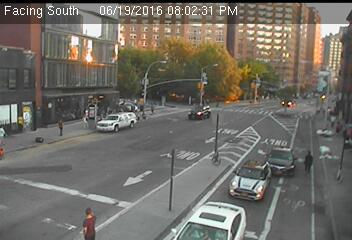neg: (238, 156, 263, 190), (265, 157, 288, 188), (192, 139, 208, 161), (112, 122, 125, 139), (208, 144, 221, 161), (320, 121, 330, 134)
pos: (80, 205, 104, 237), (298, 148, 321, 179), (52, 117, 69, 140), (147, 101, 158, 115)
